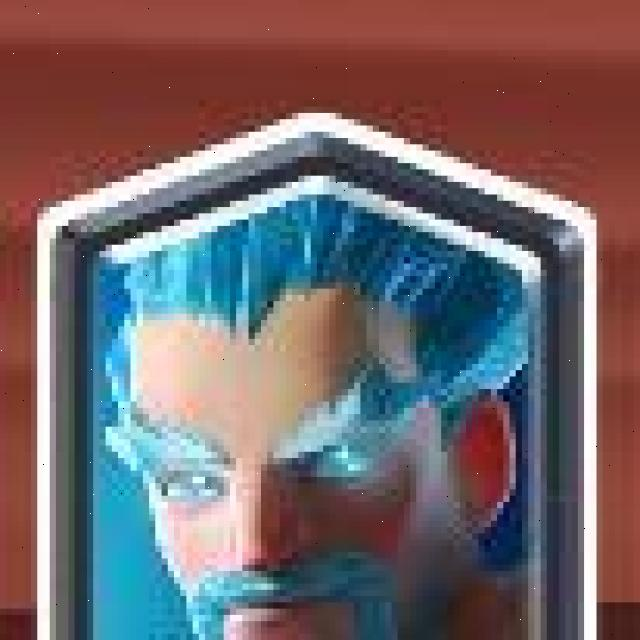Ice_Wizard: (46, 114, 588, 640)
